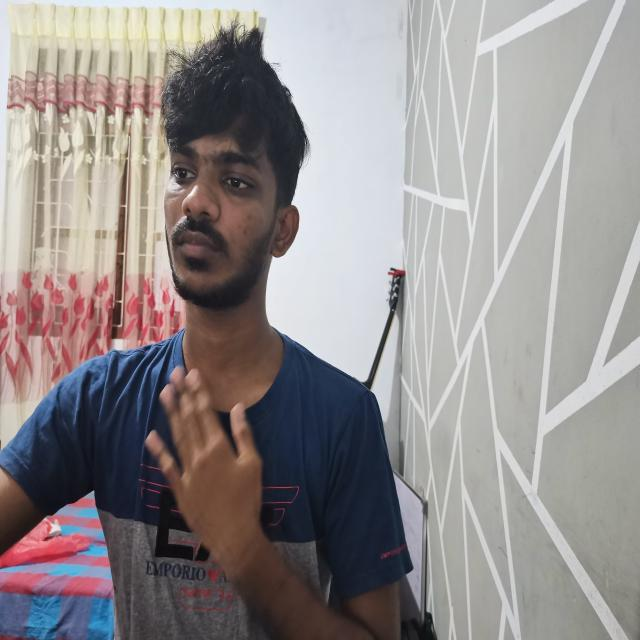Please: (140, 347, 414, 638)
